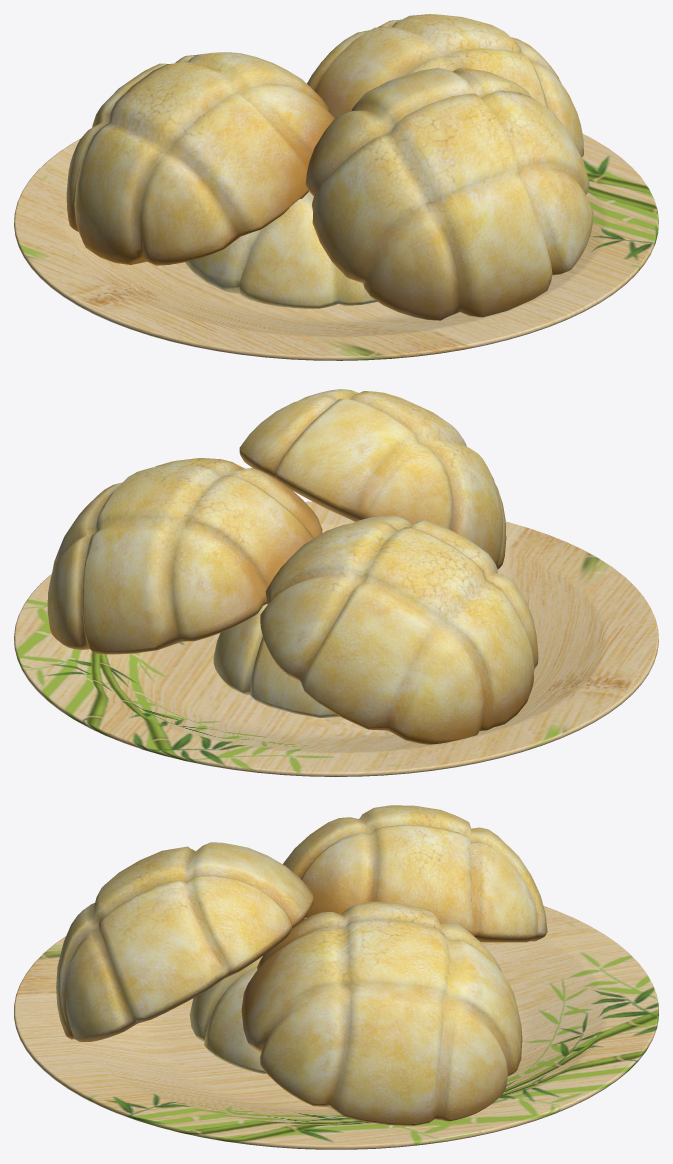
3 views of the same model, one above another, from view 1: azimuth 30°, elevation 25°; view 2: azimuth 150°, elevation 25°; view 3: azimuth 270°, elevation 25° (orthographic).
Visible parts, largest first — view 1: Kashipan; view 2: Kashipan; view 3: Kashipan.
Boxes of the visible parts, x1,y1,x2,y2 form: Kashipan: [14, 14, 658, 360]; Kashipan: [14, 389, 658, 776]; Kashipan: [14, 805, 658, 1149].
Size of the model in its own units: 0.2677 by 0.0945 by 0.2677.
Materials: 2 (2 with a texture image).
